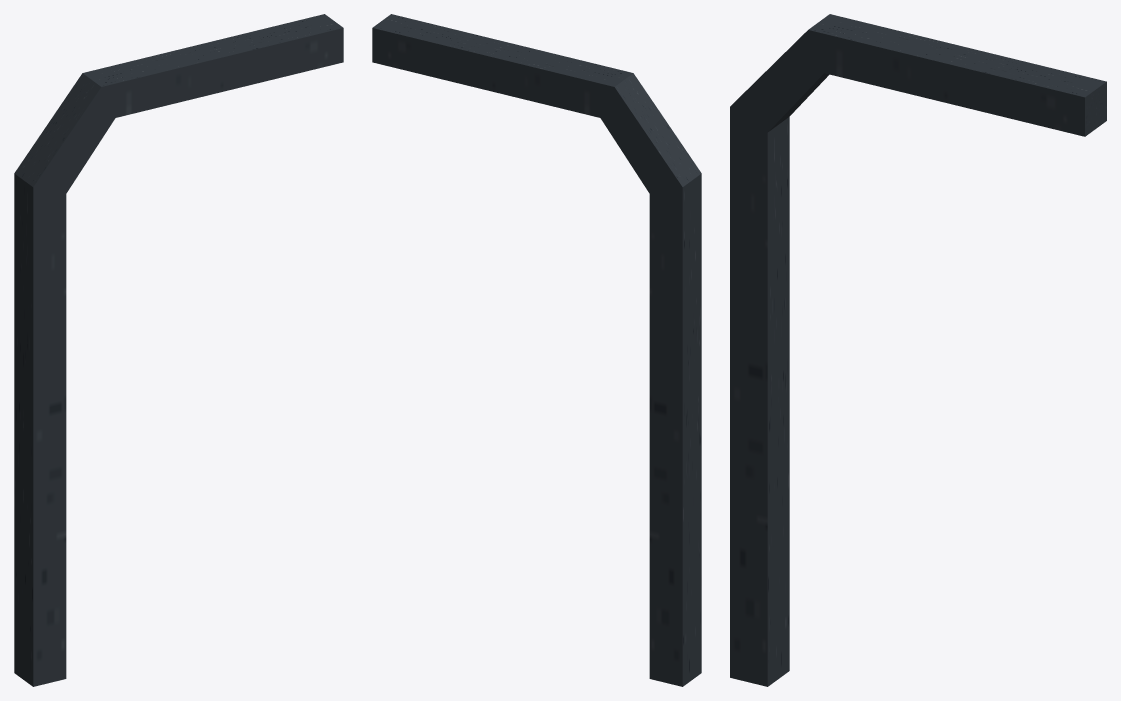
File: CableElbow.fbx
The picture shows the model from 3 angles, left to right: view 1: azimuth 30°, elevation 25°; view 2: azimuth 150°, elevation 25°; view 3: azimuth 330°, elevation 25°; orthographic projection. The views are drawn at different scales.
Visible parts, largest first — view 1: CableElbow; view 2: CableElbow; view 3: CableElbow.
Boxes of the visible parts, x1,y1,x2,y2 form: CableElbow: (14, 14, 343, 686); CableElbow: (372, 14, 701, 686); CableElbow: (730, 14, 1106, 686).
Size of the model in its own units: 132 by 237 by 14.
